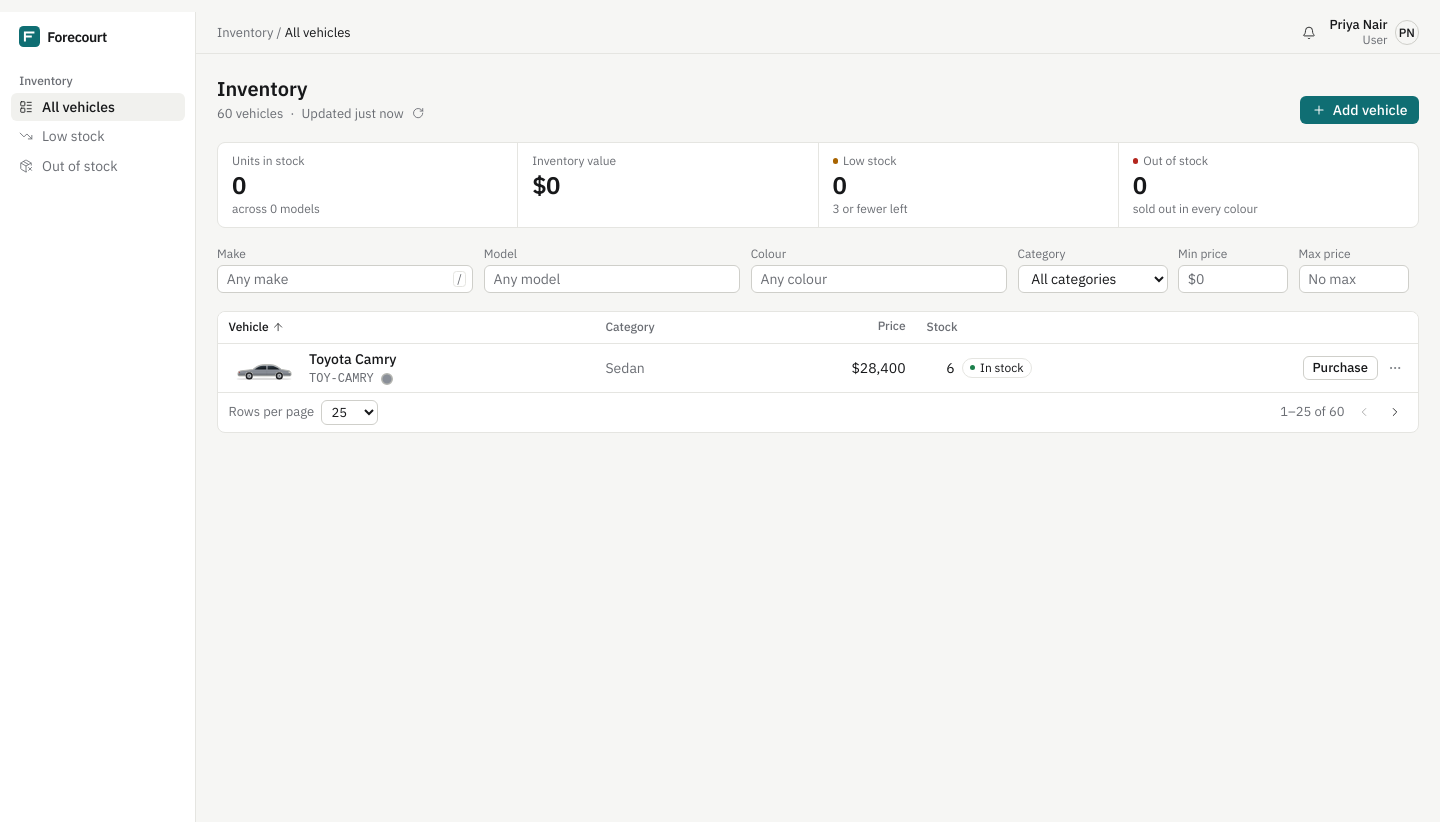
pagination › shows the range and pages through results
Expected: the text "1–25 of 60" is shown, [1280, 403, 1345, 421]
Click the button named "Next page". click: (1395, 412)
box: [1383, 400, 1408, 424]
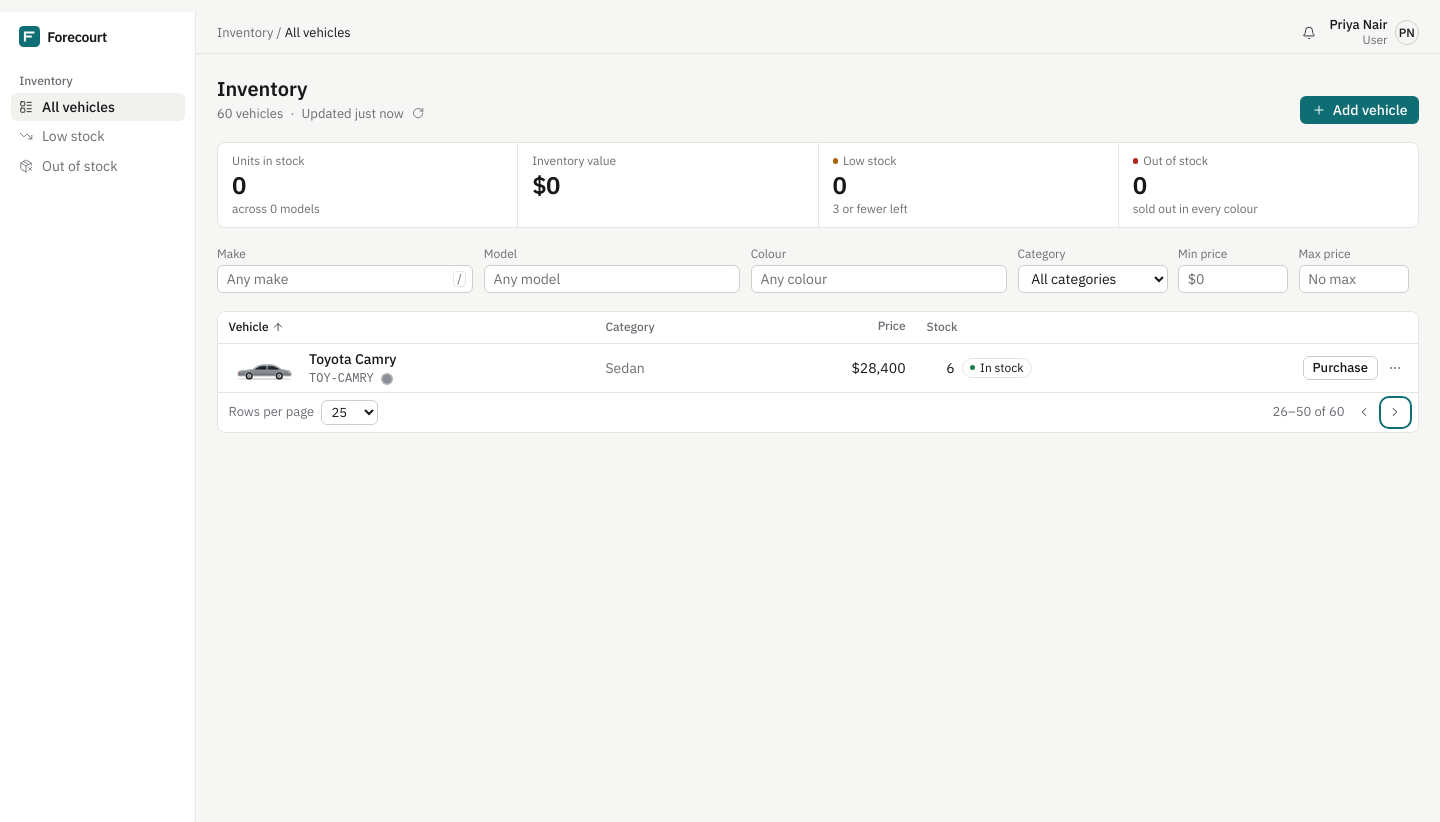
Now the text "26–50 of 60" is shown, box [1272, 403, 1344, 421]
Now the button named "Previous page" is enabled, box [1352, 400, 1376, 424]
